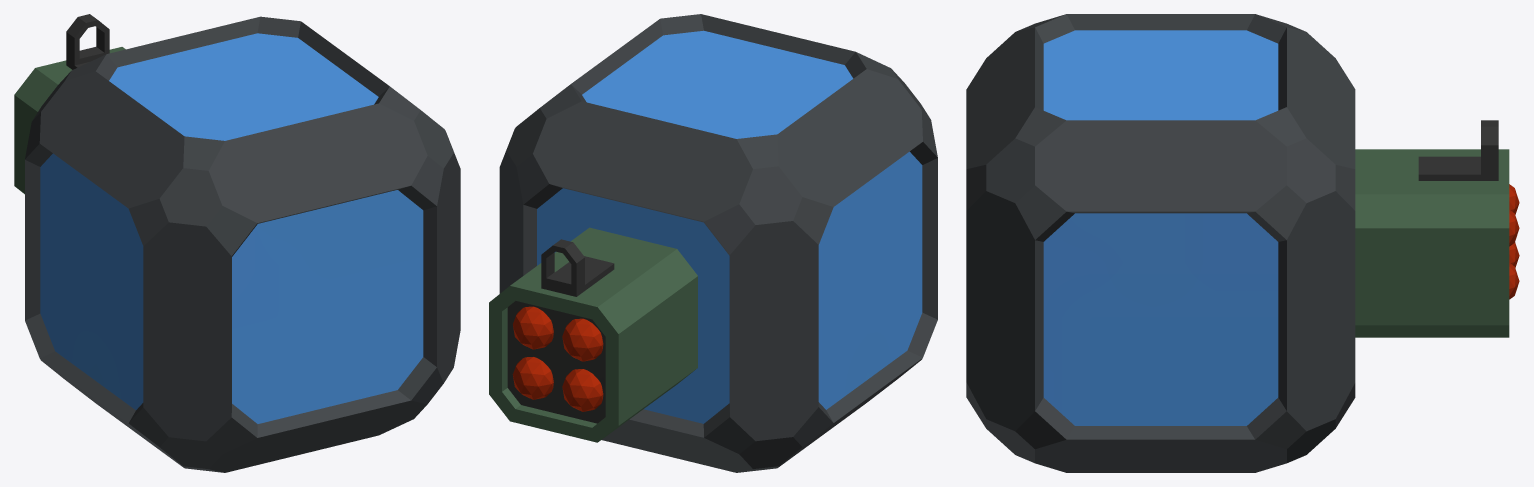
File: Rocket.fbx
The picture shows the model from 3 angles, left to right: view 1: azimuth 30°, elevation 25°; view 2: azimuth 150°, elevation 25°; view 3: azimuth 270°, elevation 25°; orthographic projection. The views are drawn at different scales.
Visible parts, largest first — view 1: CannonBlock; view 2: CannonBlock; view 3: CannonBlock.
Boxes of the visible parts, <box> form: CannonBlock: <box>14,14,460,472</box>; CannonBlock: <box>489,14,937,472</box>; CannonBlock: <box>966,14,1519,472</box>.
Size of the model in its own units: 216 by 216 by 307.
